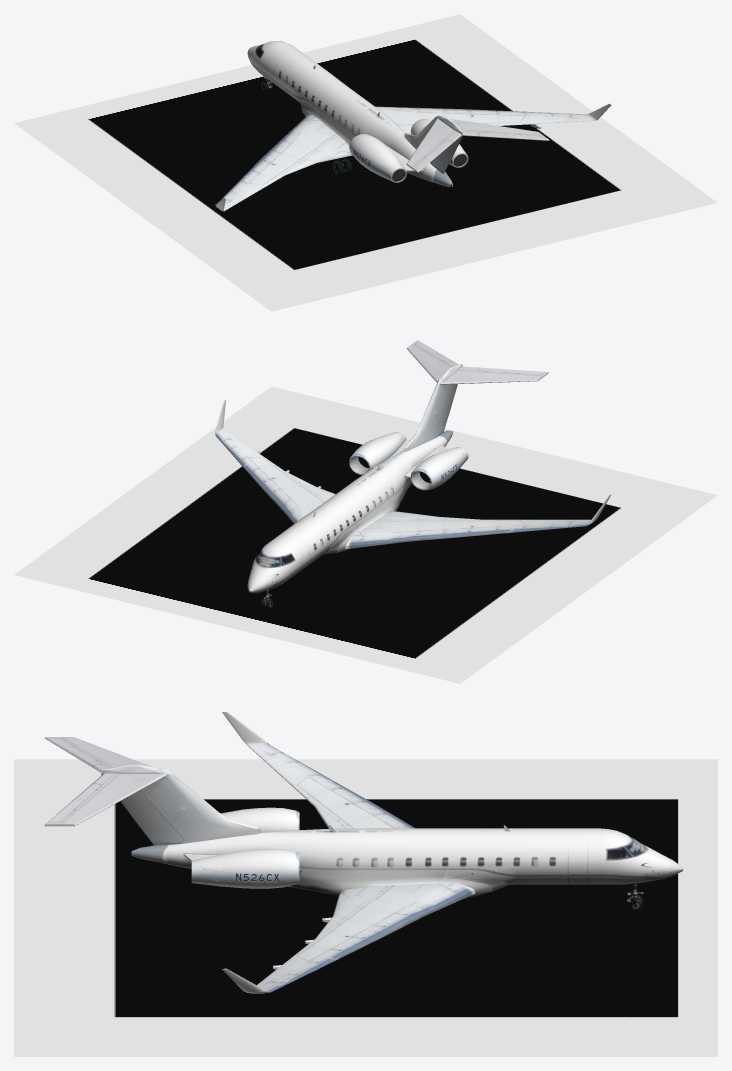
The model's file is White_N526CX.gltf.
The picture shows the model from 3 angles, top to bottom: view 1: azimuth 30°, elevation 25°; view 2: azimuth 150°, elevation 25°; view 3: azimuth 270°, elevation 25°; orthographic projection. The views are drawn at different scales.
Visible parts, largest first — view 1: White_N526CX; view 2: White_N526CX; view 3: White_N526CX.
Boxes of the visible parts, <box> form: White_N526CX: <box>14,14,717,311</box>; White_N526CX: <box>14,340,717,683</box>; White_N526CX: <box>14,712,717,1056</box>.
Bounding box in the file's own units: 33.57 × 7.56 × 33.57.
